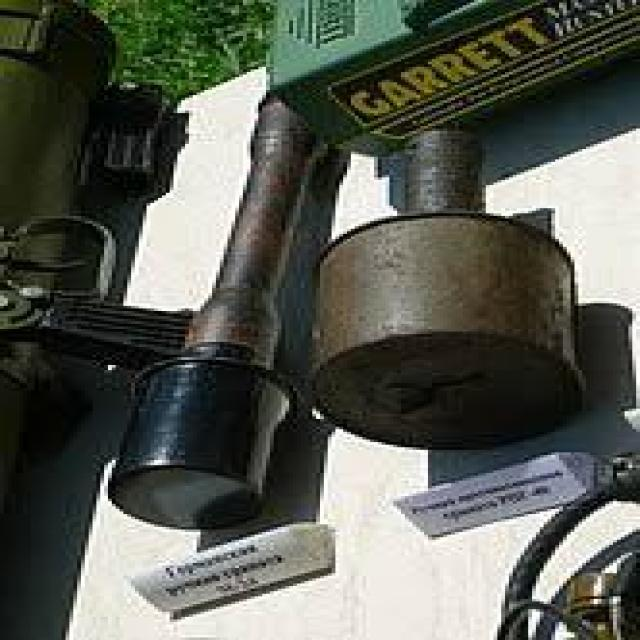grenade: (89, 85, 358, 529), (297, 106, 586, 448)
